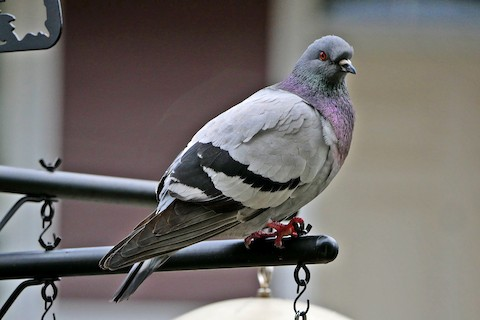pigeon: (98, 26, 359, 308)
